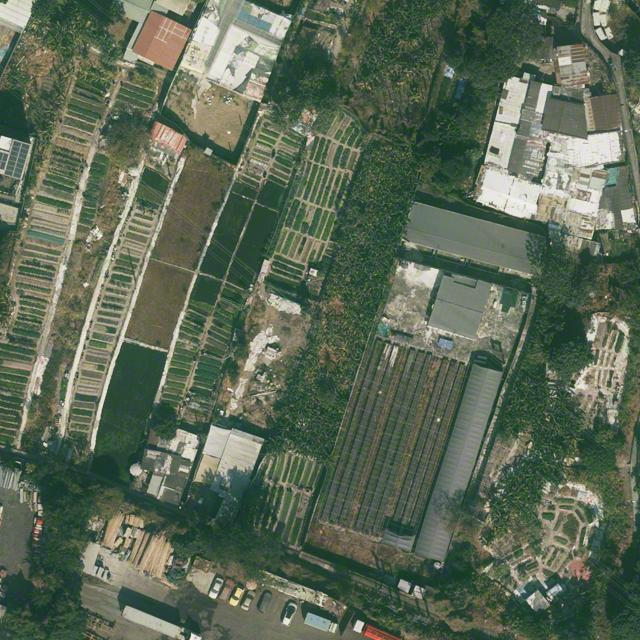panel: (4, 141, 30, 178), (0, 152, 8, 169)
